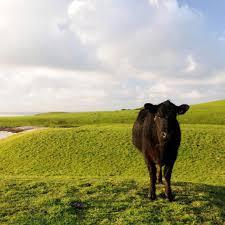cow: (132, 102, 189, 199)
